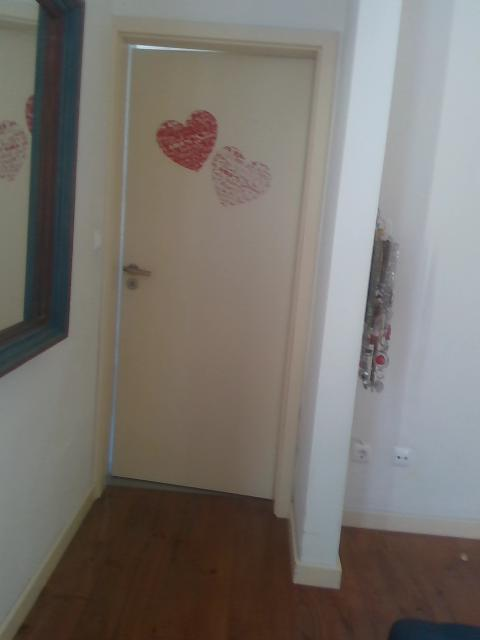door: (110, 48, 316, 499)
